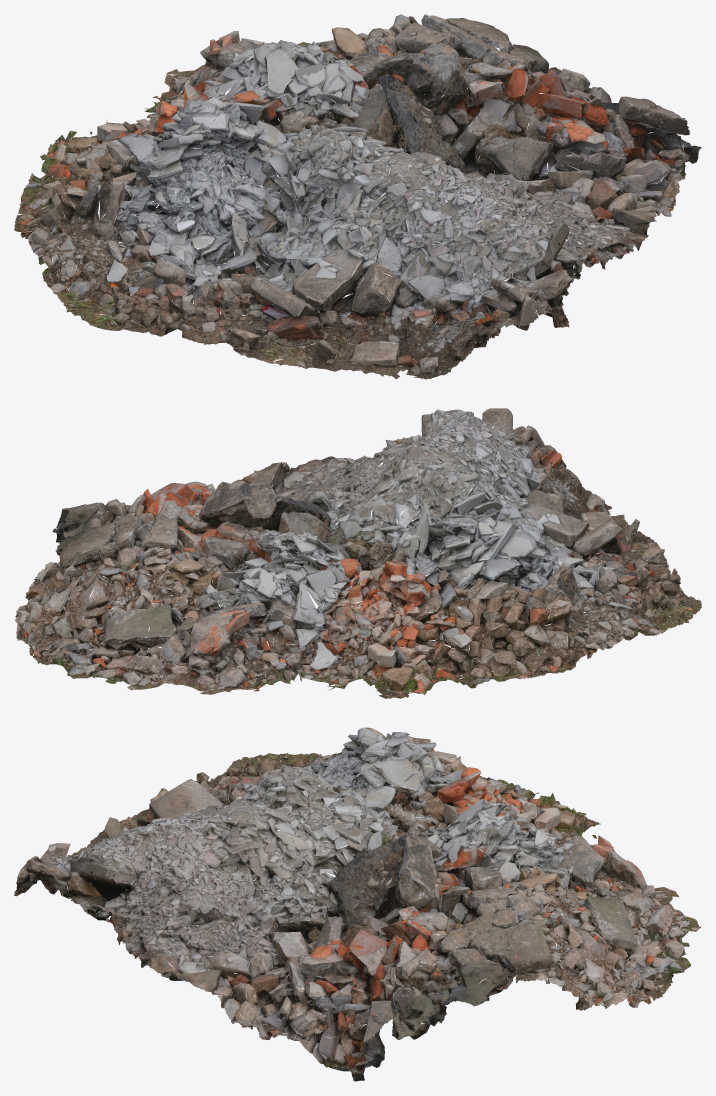
File: debris2.glb
The picture shows the model from 3 angles, top to bottom: view 1: azimuth 30°, elevation 25°; view 2: azimuth 150°, elevation 25°; view 3: azimuth 270°, elevation 25°; orthographic projection. The views are drawn at different scales.
Parts seen in each view (by area): view 1: Model_material0_0; view 2: Model_material0_0; view 3: Model_material0_0.
Boxes of the visible parts, <box> form: Model_material0_0: <box>14,14,701,379</box>; Model_material0_0: <box>14,408,701,698</box>; Model_material0_0: <box>14,727,701,1081</box>.
Bounding box in the file's own units: 2.6 × 0.5863 × 2.57.
Materials: 2 (2 with a texture image).
